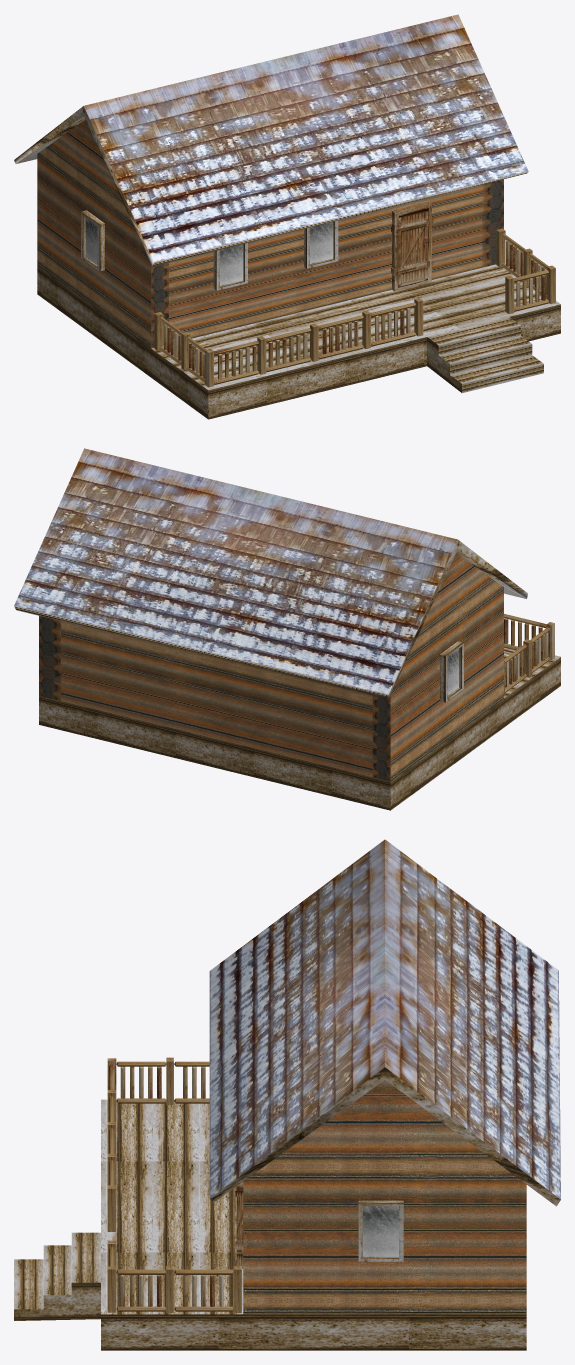
Rendered from cabin_mesh.fbx.
3 renders of one model, top to bottom at view 1: azimuth 30°, elevation 25°; view 2: azimuth 150°, elevation 25°; view 3: azimuth 270°, elevation 25°, orthographic. The views are drawn at different scales.
Visible parts, largest first — view 1: group_cabin_mesh; view 2: group_cabin_mesh; view 3: group_cabin_mesh.
Part boxes in pixels (x1,y1,x2,y2): group_cabin_mesh: (14,14,560,419); group_cabin_mesh: (14,448,560,810); group_cabin_mesh: (14,839,560,1350).
Bounding box in the file's own units: 1897 × 1133 × 1921.
7 materials, 7 textured.
